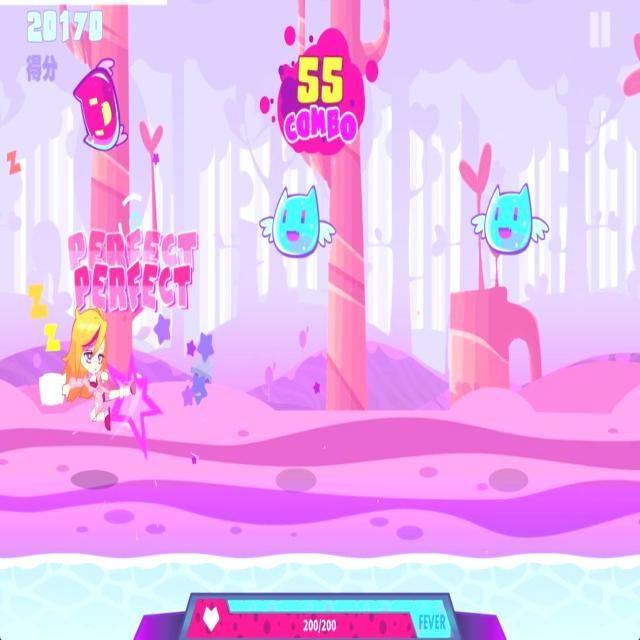mao: (71, 52, 133, 163), (259, 178, 339, 262), (468, 178, 552, 258)
